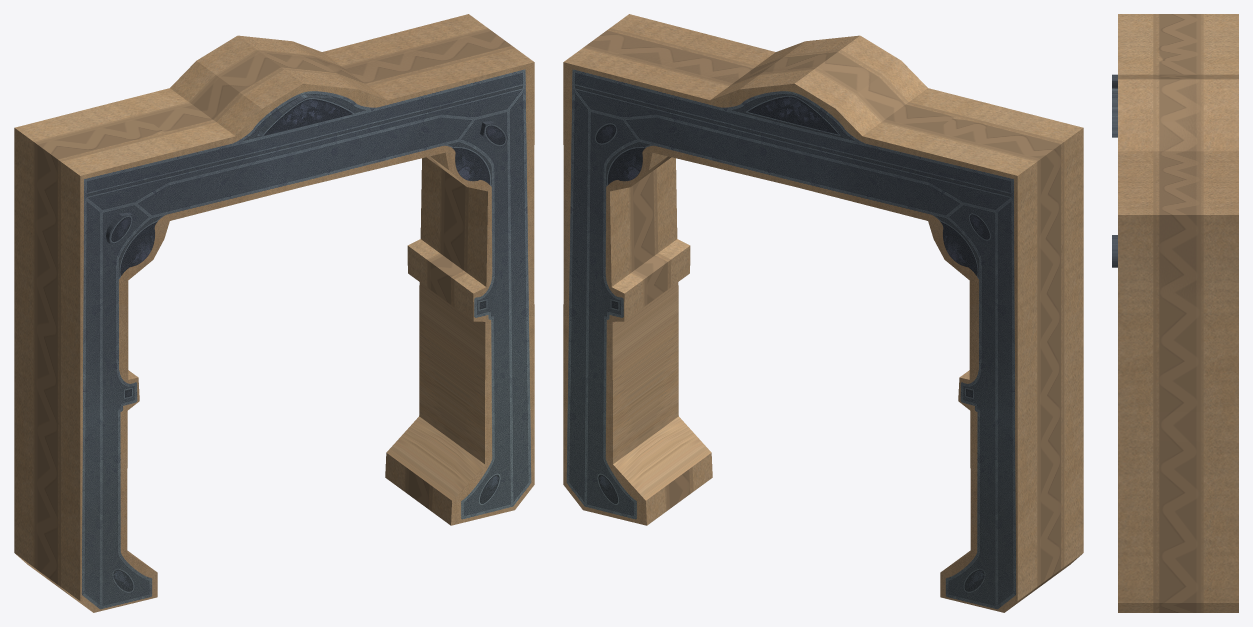
The model's file is SM_Arch.fbx.
The picture shows the model from 3 angles, left to right: view 1: azimuth 30°, elevation 25°; view 2: azimuth 150°, elevation 25°; view 3: azimuth 270°, elevation 25°; orthographic projection. The views are drawn at different scales.
Visible parts, largest first — view 1: Arch; view 2: Arch; view 3: Arch.
Boxes of the visible parts, left/top/right/bottom form: Arch: left=14, top=14, right=534, bottom=612; Arch: left=563, top=14, right=1083, bottom=612; Arch: left=1112, top=14, right=1238, bottom=612.
Size of the model in its own units: 1309 by 1317 by 344.
